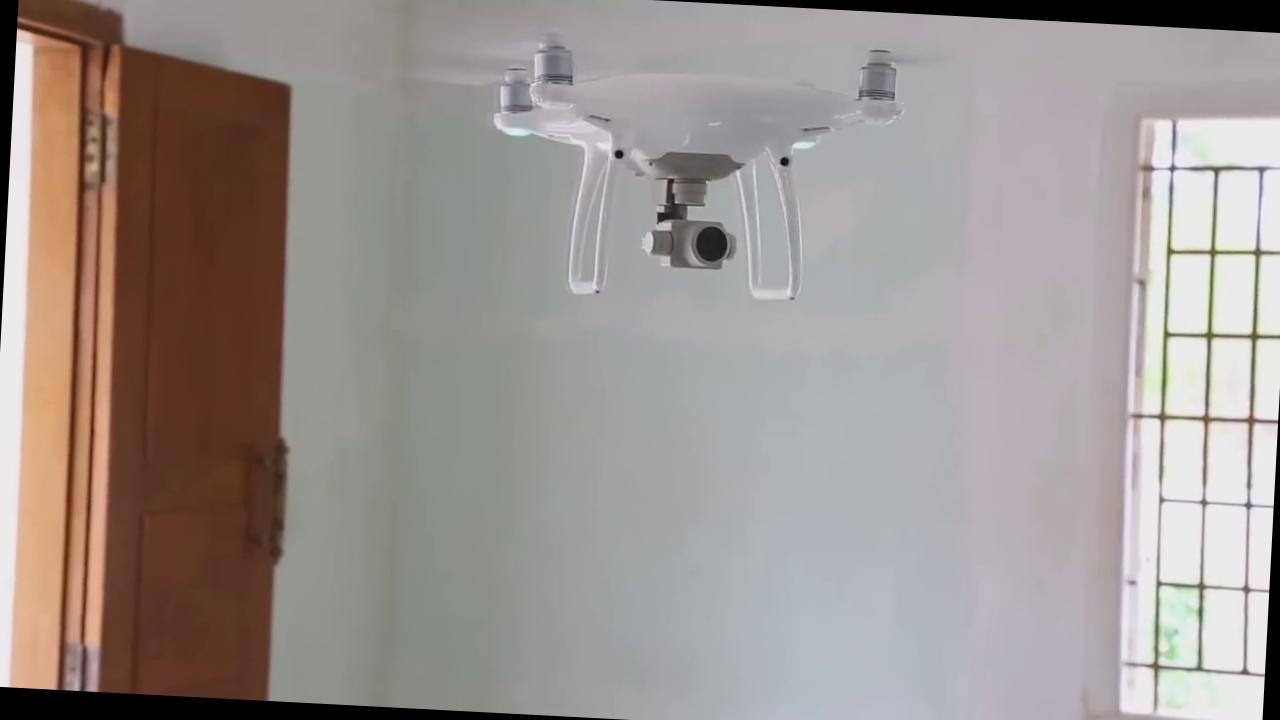drone: (403, 19, 966, 336)
